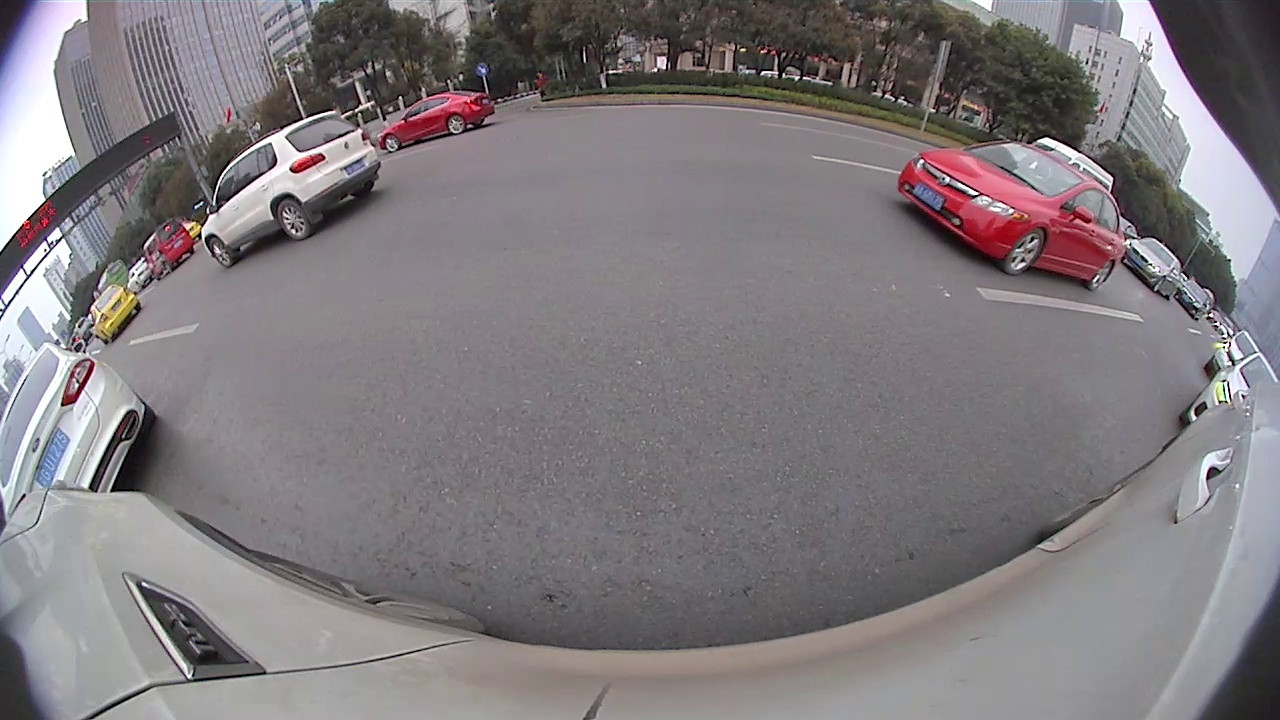car: (897, 142, 1122, 291), (2, 343, 153, 536), (201, 113, 380, 268), (1177, 352, 1277, 435), (379, 92, 495, 153), (144, 222, 193, 279), (91, 286, 139, 341)
front: (1004, 227, 1048, 276), (207, 235, 235, 268), (383, 132, 400, 152), (1154, 275, 1166, 293)
rear: (277, 197, 312, 240), (1089, 258, 1114, 292), (446, 112, 467, 136)
